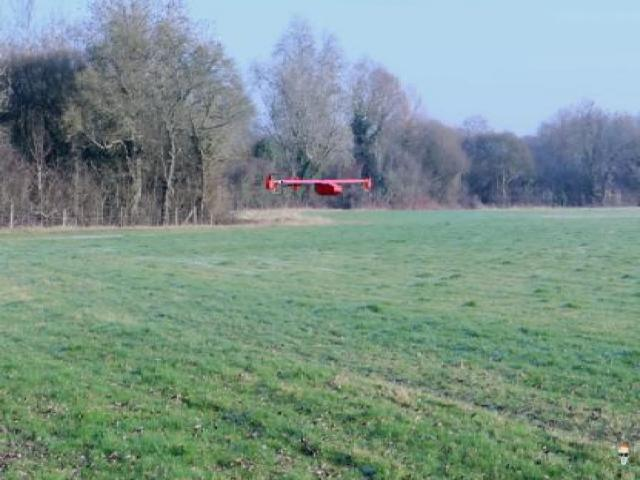uav: (270, 152, 379, 205)
